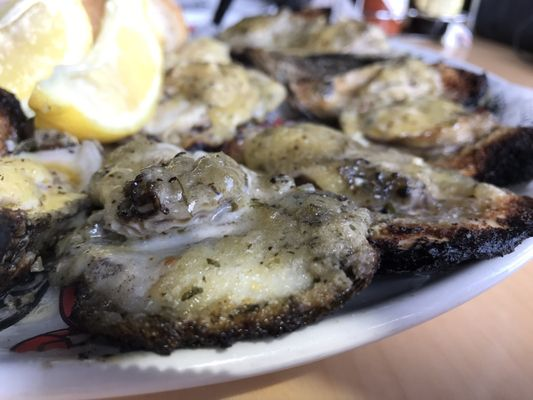sandwich: (1, 3, 533, 392)
